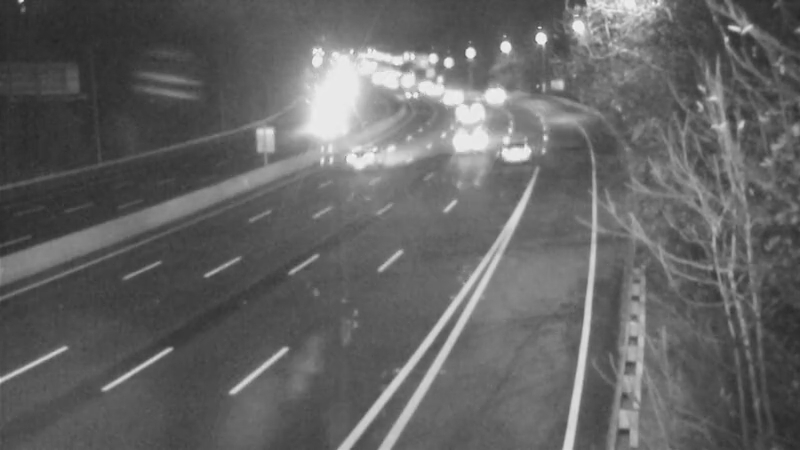vehicle: (326, 114, 406, 194), (384, 68, 434, 118), (468, 68, 518, 118), (439, 95, 489, 145), (444, 114, 494, 164), (488, 118, 538, 168)
